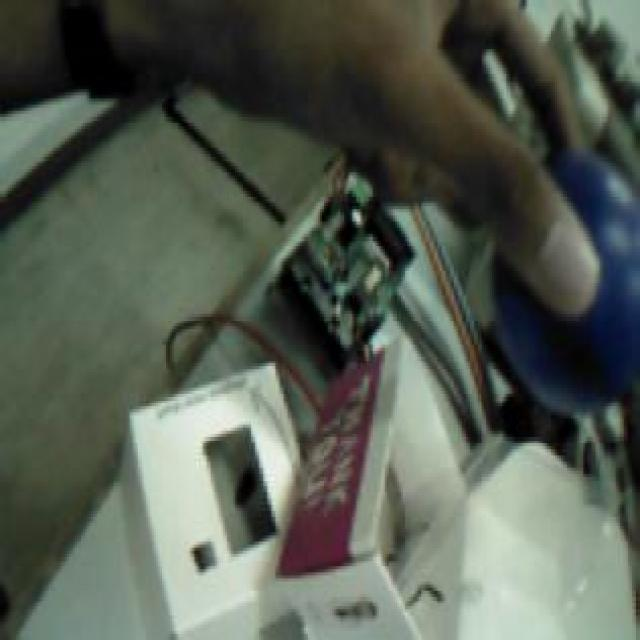BallPurple: (491, 148, 640, 414)
